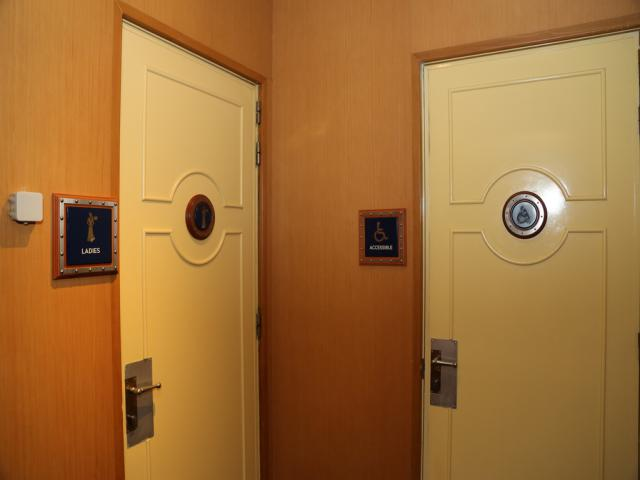Door-handle: (126, 358, 162, 446), (430, 336, 459, 410)
